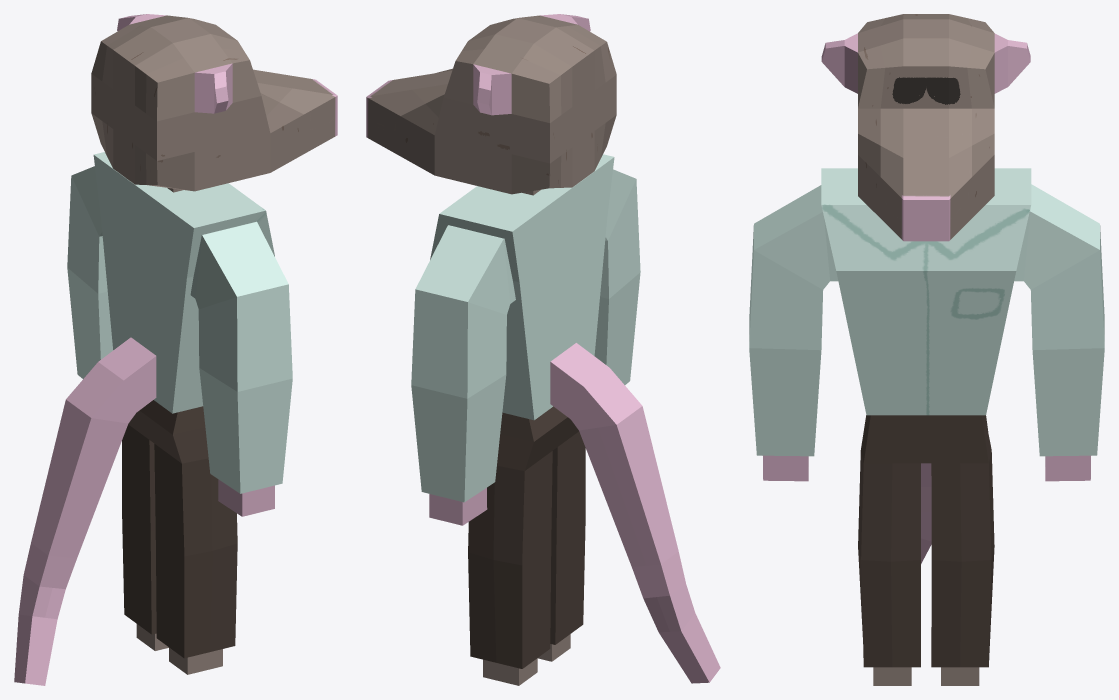
Rendered from RatBoi.fbx.
3 views of the same model, side by side, from view 1: azimuth 30°, elevation 25°; view 2: azimuth 150°, elevation 25°; view 3: azimuth 270°, elevation 25° (orthographic). The views are drawn at different scales.
Visible parts, largest first — view 1: MainBody, Arm.L.001, Tail, Arm.L.002; view 2: MainBody, Arm.L.002, Tail, Arm.L.001; view 3: MainBody, Arm.L.002, Arm.L.001, Tail.
Boxes of the visible parts, left/top/right/bottom form: MainBody: left=91, top=14, right=337, bottom=674; Arm.L.001: left=190, top=221, right=292, bottom=516; Tail: left=14, top=337, right=156, bottom=685; Arm.L.002: left=67, top=166, right=113, bottom=378; MainBody: left=366, top=14, right=616, bottom=685; Arm.L.002: left=411, top=225, right=515, bottom=525; Tail: left=550, top=343, right=720, bottom=683; Arm.L.001: left=594, top=169, right=640, bottom=384; MainBody: left=821, top=14, right=1031, bottom=685; Arm.L.002: left=1014, top=184, right=1104, bottom=481; Arm.L.001: left=749, top=185, right=838, bottom=481; Tail: left=921, top=463, right=931, bottom=563.
Size of the model in its own units: 106 by 197 by 97.72.
